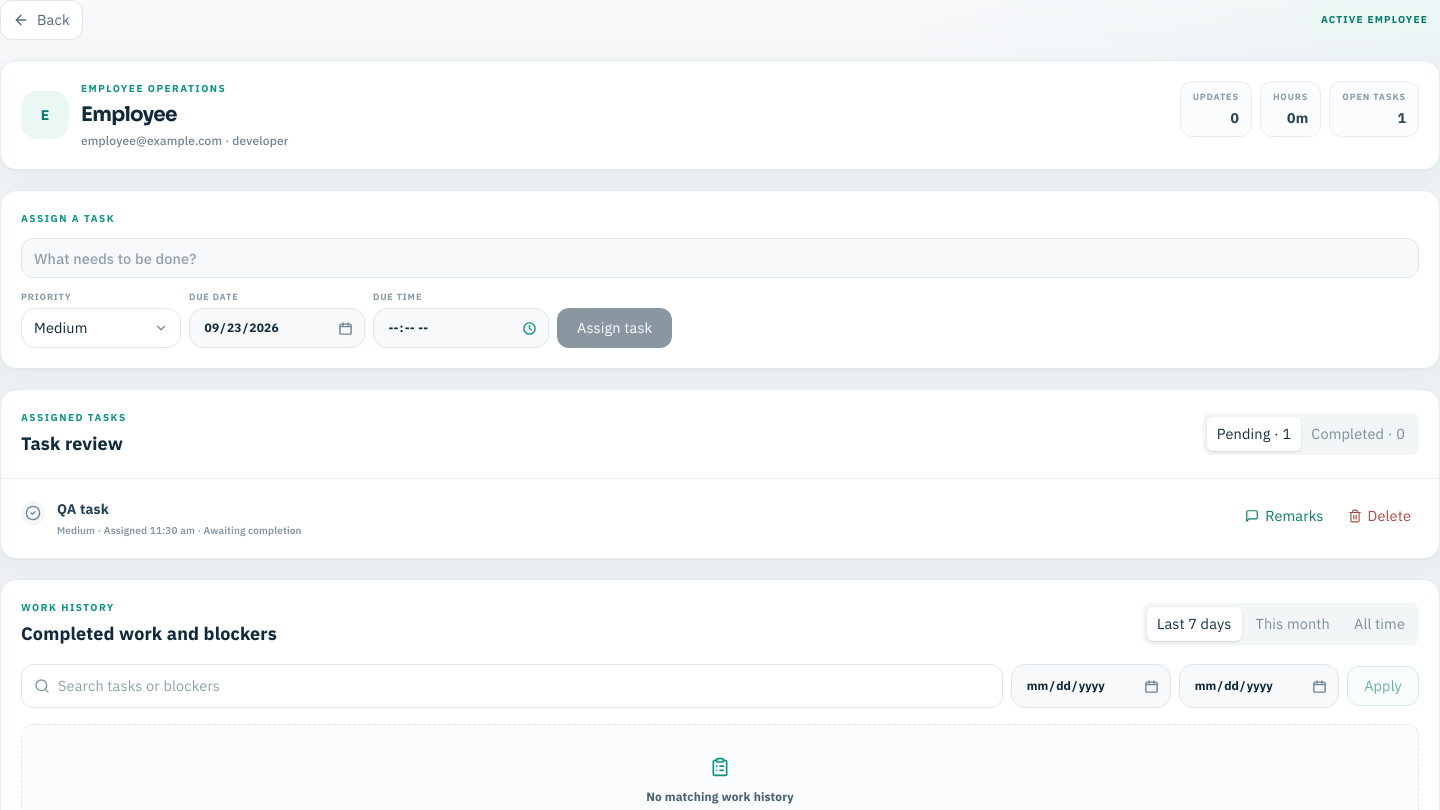
Test: EmployeeDetailCanvas › shows a clear delete failure and retains the task when the server rejects a delete
expect the text "QA task" is shown: met, box [57,500,109,518]
What coordinates should you click on to do the following:
click the button "Delete"
I would click on:
 (1379, 516)
Its box is [1340,499,1419,533].
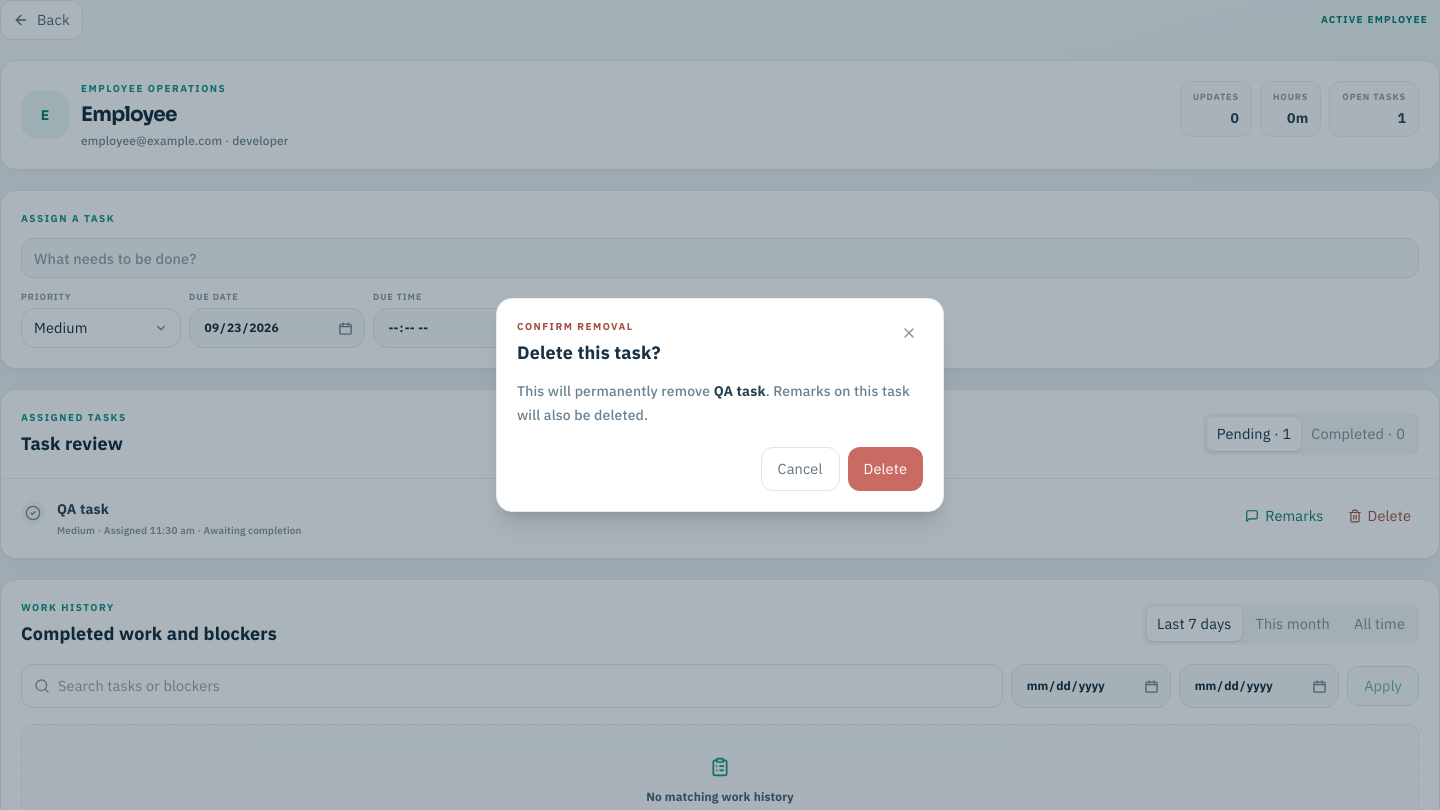
What coordinates should you click on to do the following:
click the button "Delete"
I would click on:
 (885, 469)
Its box is [848,446,923,491].
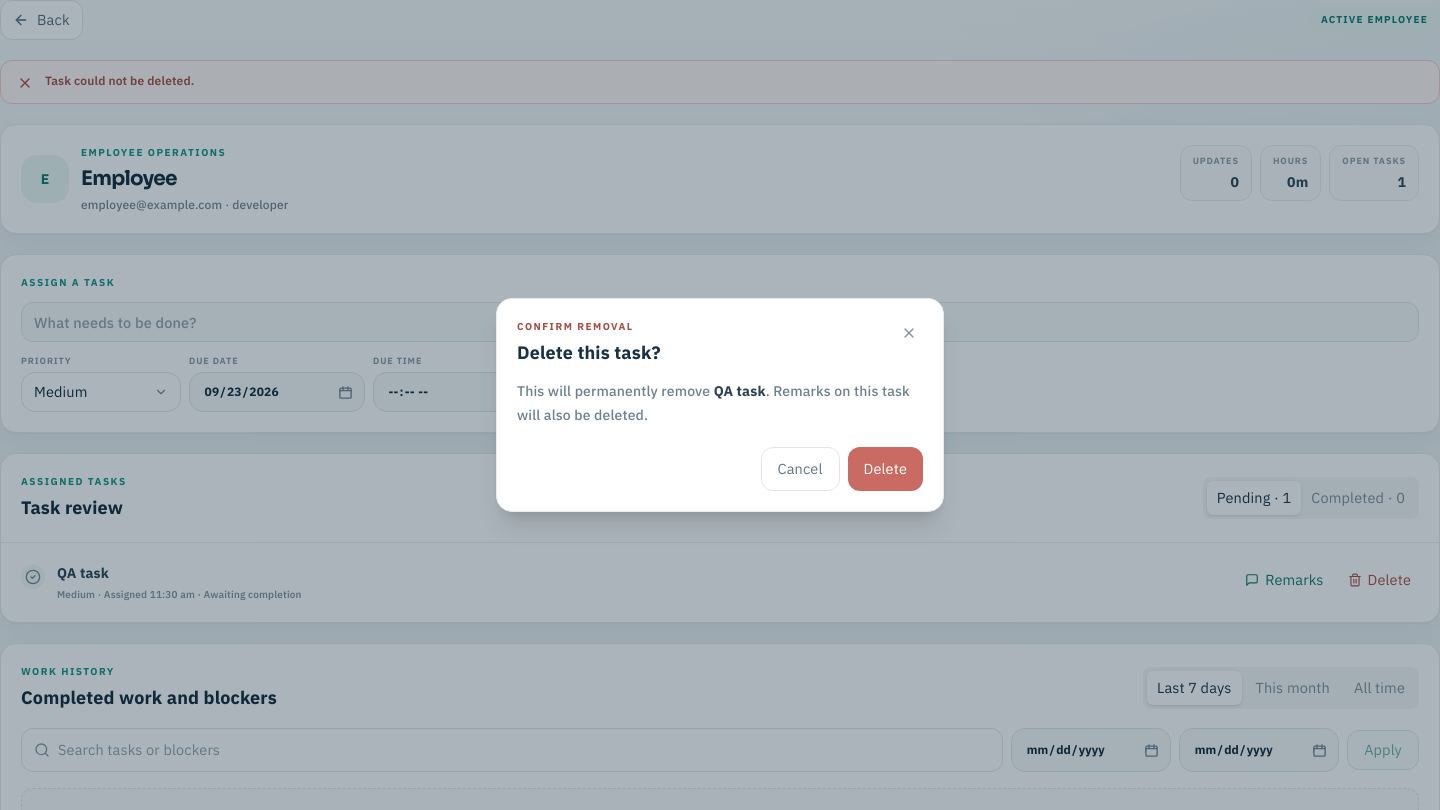
expect the 2nd text "QA task" is shown: met, box [57,564,109,582]
expect the message reads "Task could not be deleted.": met, box [45,74,194,88]
